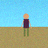person: (21, 14, 32, 36)
